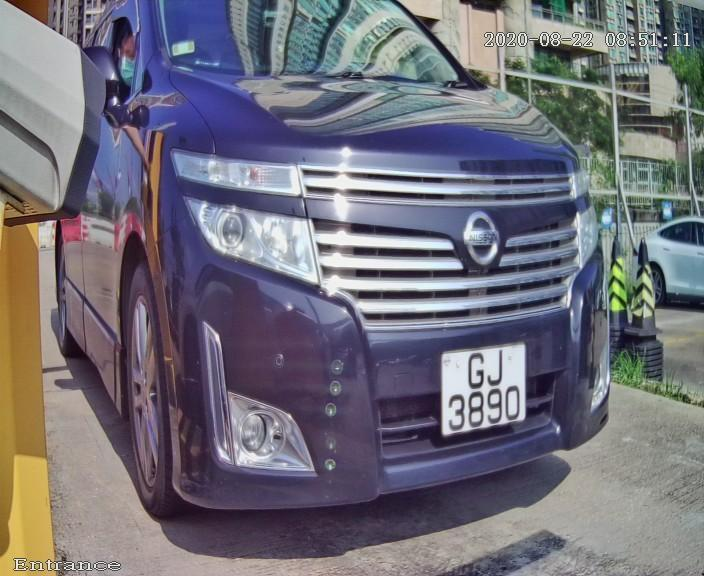Car: (48, 1, 651, 564)
License Plate: (431, 330, 532, 443)
